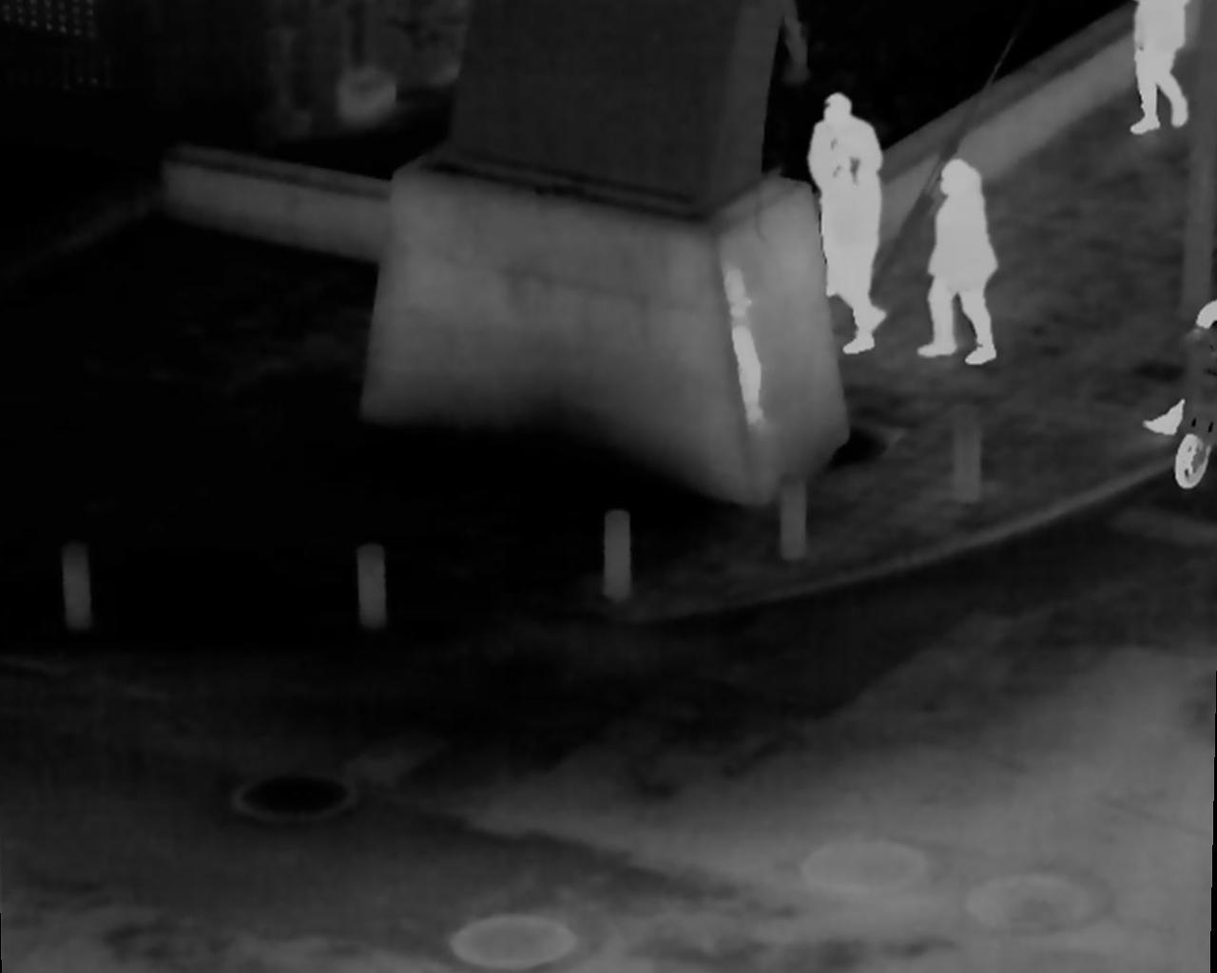person: (812, 91, 893, 350), (916, 161, 1001, 360)
